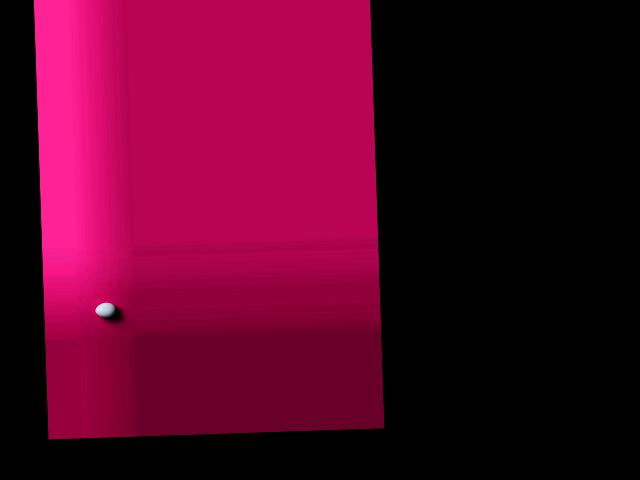egg: (95, 301, 116, 317)
